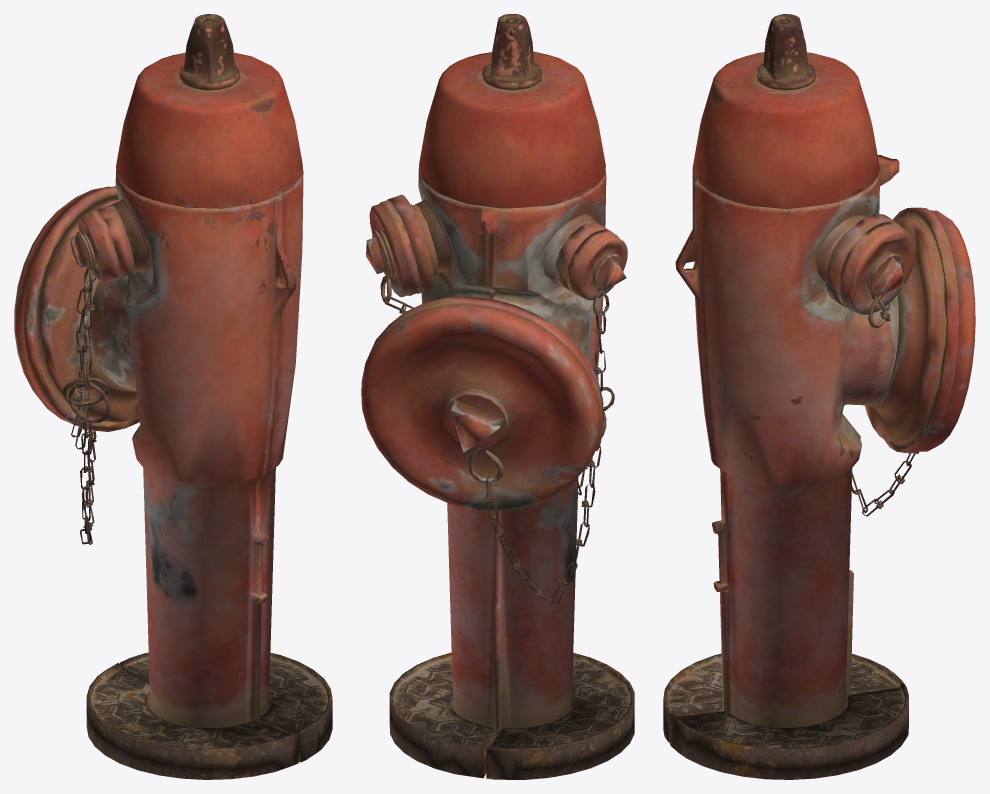
File: fire_hydrant.glb
3 renders of one model, left to right at view 1: azimuth 30°, elevation 25°; view 2: azimuth 150°, elevation 25°; view 3: azimuth 270°, elevation 25°, orthographic.
Parts seen in each view (by area): view 1: fire_hydrant_aged; view 2: fire_hydrant_aged; view 3: fire_hydrant_aged.
Part boxes in pixels (left/top/right/bottom): fire_hydrant_aged: left=14, top=14, right=332, bottom=779; fire_hydrant_aged: left=361, top=14, right=634, bottom=779; fire_hydrant_aged: left=663, top=14, right=975, bottom=779.
Size of the model in its own units: 0.2903 by 0.7995 by 0.3194.
1 material, 1 textured.
